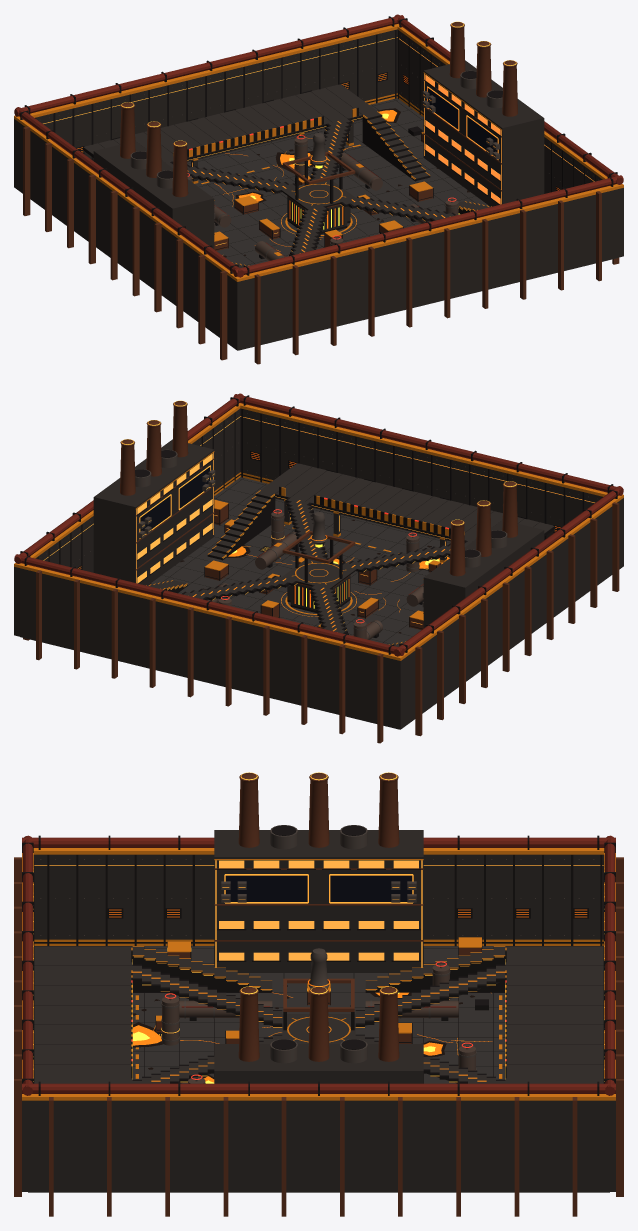
The model's file is arena_magma.glb.
The picture shows the model from 3 angles, top to bottom: view 1: azimuth 30°, elevation 25°; view 2: azimuth 150°, elevation 25°; view 3: azimuth 270°, elevation 25°; orthographic projection. The views are drawn at different scales.
Visible parts, largest first — view 1: Outer_Walls, Outer_Walls_Decor, Ground, Side_Building_E, Side_Buildings_Decor, Upper_Platform_S, Side_Building_W, Ground_Decor, Stairs_4, Furnace_Tower, Crates, Railings (+12 smaller); view 2: Outer_Walls, Outer_Walls_Decor, Ground, Side_Building_E, Side_Buildings_Decor, Upper_Platform_N, Side_Building_W, Ground_Decor, Crates, Stairs_2, Furnace_Tower, Railings (+13 smaller); view 3: Outer_Walls, Outer_Walls_Decor, Side_Buildings_Decor, Side_Building_W, Ground, Upper_Platform_N, Upper_Platform_S, Side_Building_E, Stairs_1, Ground_Decor, Stairs_3, Bridge_SW (+13 smaller).
Boxes of the visible parts, x1,y1,x2,y2 form: Outer_Walls: (14, 24, 623, 350); Outer_Walls_Decor: (14, 14, 623, 364); Ground: (187, 98, 617, 350); Side_Building_E: (423, 60, 544, 206); Side_Buildings_Decor: (120, 21, 517, 234); Upper_Platform_S: (83, 84, 377, 162); Side_Building_W: (93, 141, 214, 248); Ground_Decor: (187, 99, 476, 265); Stairs_4: (362, 111, 430, 181); Furnace_Tower: (281, 180, 355, 234); Crates: (214, 132, 432, 250); Railings: (173, 107, 358, 157); Outer_Walls: (14, 403, 623, 729); Outer_Walls_Decor: (14, 393, 623, 743); Ground: (20, 477, 450, 729); Side_Building_E: (93, 439, 214, 585); Side_Buildings_Decor: (120, 400, 517, 613); Upper_Platform_N: (260, 463, 554, 541); Side_Building_W: (423, 520, 544, 627); Ground_Decor: (161, 478, 450, 644); Crates: (205, 499, 440, 629); Stairs_2: (207, 490, 275, 560); Furnace_Tower: (282, 559, 356, 613); Railings: (279, 486, 464, 536); Outer_Walls: (22, 848, 615, 1191); Outer_Walls_Decor: (14, 835, 623, 1216); Side_Buildings_Decor: (214, 772, 423, 1063); Side_Building_W: (214, 830, 423, 972); Ground: (28, 946, 609, 1192); Upper_Platform_N: (34, 946, 132, 1083); Upper_Platform_S: (505, 946, 603, 1083); Side_Building_E: (214, 1044, 423, 1083); Stairs_1: (132, 946, 272, 992); Ground_Decor: (133, 946, 504, 1083); Stairs_3: (365, 946, 505, 992); Bridge_SW: (355, 964, 505, 1027).
Size of what is drawn, in the model's own units: 52.4 by 19.41 by 52.4.
